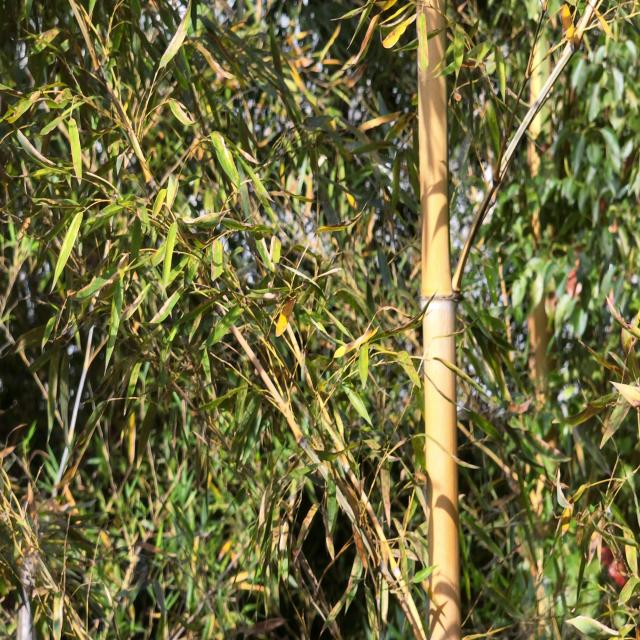Bamboo-shoots: (416, 0, 462, 640)
